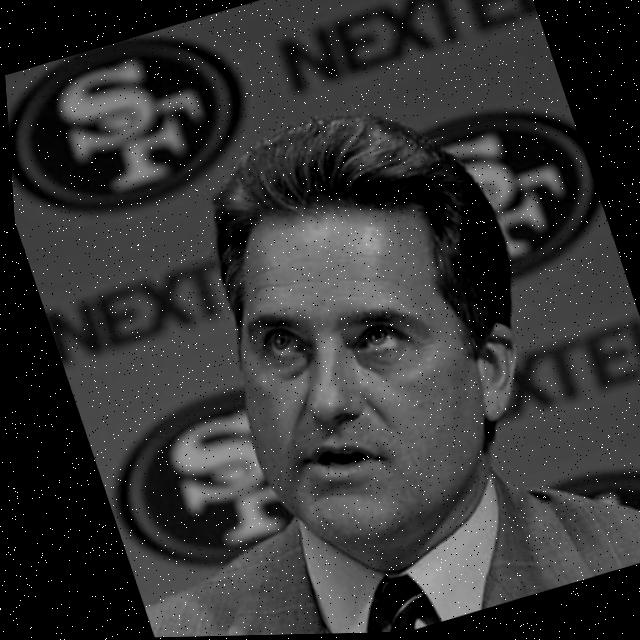face: (176, 148, 590, 599)
